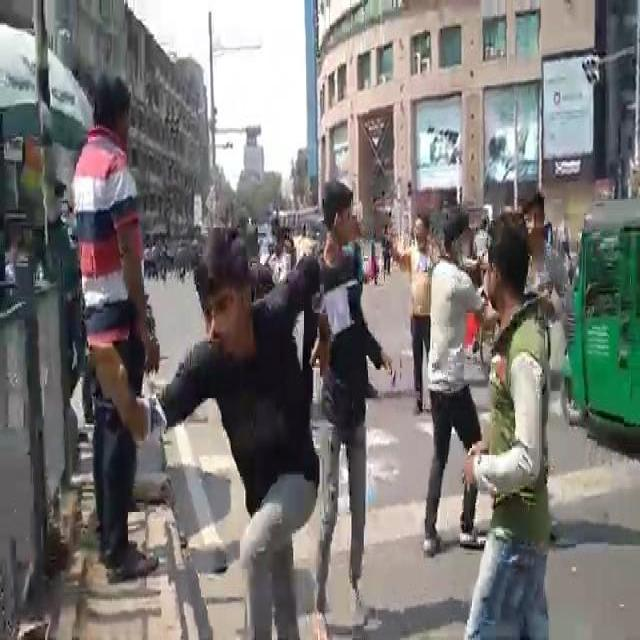fight: (117, 199, 406, 640), (422, 188, 586, 610)
